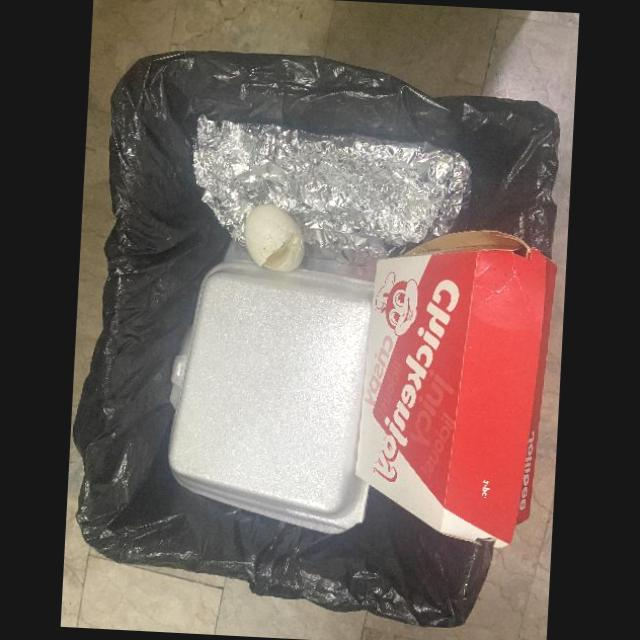carton: (356, 229, 557, 549)
nhom: (192, 114, 472, 261)
vo_trung: (244, 202, 304, 272)
xop: (167, 259, 374, 534)
